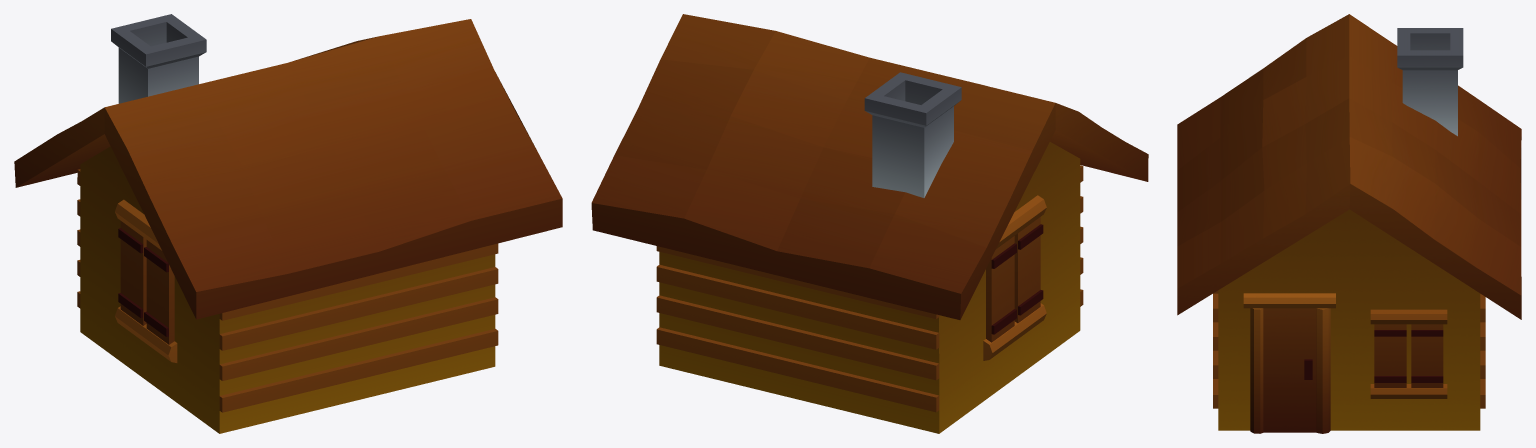
File: casa02.fbx
3 renders of one model, left to right at view 1: azimuth 30°, elevation 25°; view 2: azimuth 150°, elevation 25°; view 3: azimuth 270°, elevation 25°, orthographic. The views are drawn at different scales.
Visible parts, largest first — view 1: Cylinder.001; view 2: Cylinder.001; view 3: Cylinder.001.
Part boxes in pixels (box(x1,y1,x2,y2)): Cylinder.001: box(14, 14, 562, 433); Cylinder.001: box(591, 14, 1148, 433); Cylinder.001: box(1177, 14, 1521, 433).
Bounding box in the file's own units: 423 × 334 × 365.
